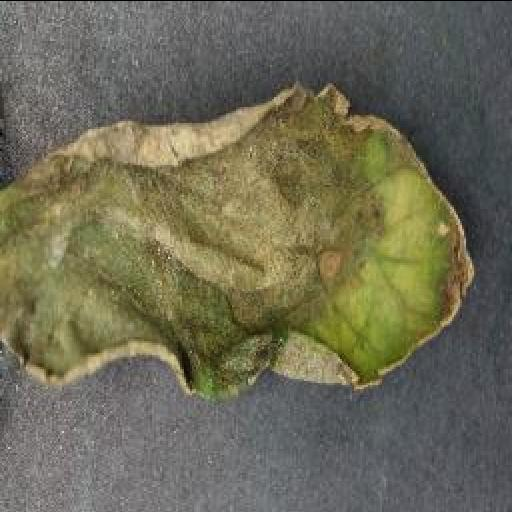disease_tomato: (0, 84, 478, 406)
